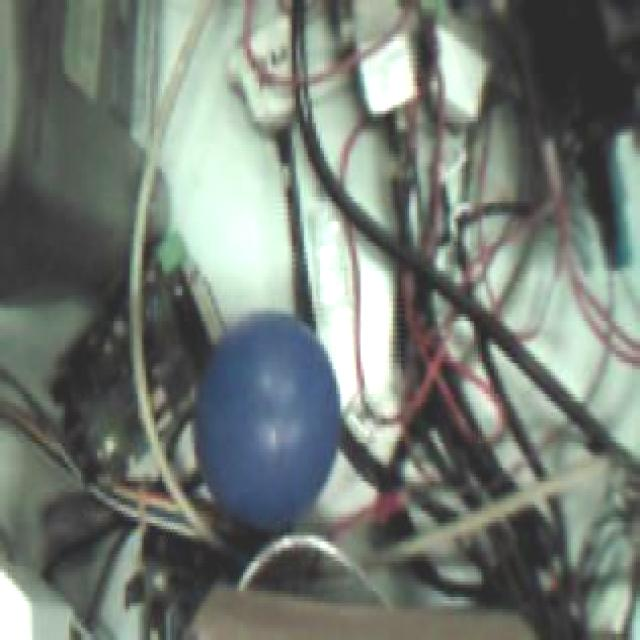BallPurple: (195, 311, 339, 524)
